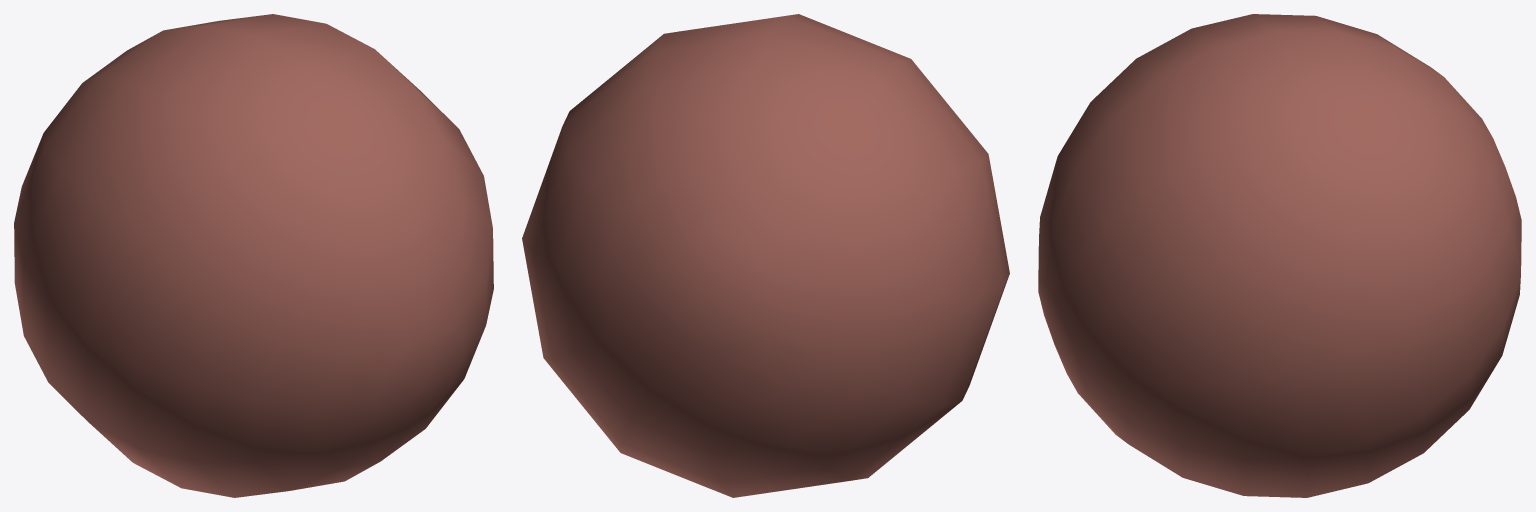
File: mixamo_humanoid_joint_leftHandMiddle2.fbx
3 renders of one model, left to right at view 1: azimuth 30°, elevation 25°; view 2: azimuth 150°, elevation 25°; view 3: azimuth 270°, elevation 25°, orthographic.
Visible parts, largest first — view 1: joint_LeftHandMiddle2; view 2: joint_LeftHandMiddle2; view 3: joint_LeftHandMiddle2.
Boxes of the visible parts, bbox=[...] form: joint_LeftHandMiddle2: bbox=[14, 14, 493, 497]; joint_LeftHandMiddle2: bbox=[522, 14, 1009, 497]; joint_LeftHandMiddle2: bbox=[1038, 14, 1521, 497].
Bounding box in the file's own units: 1.95 × 1.95 × 1.93.
